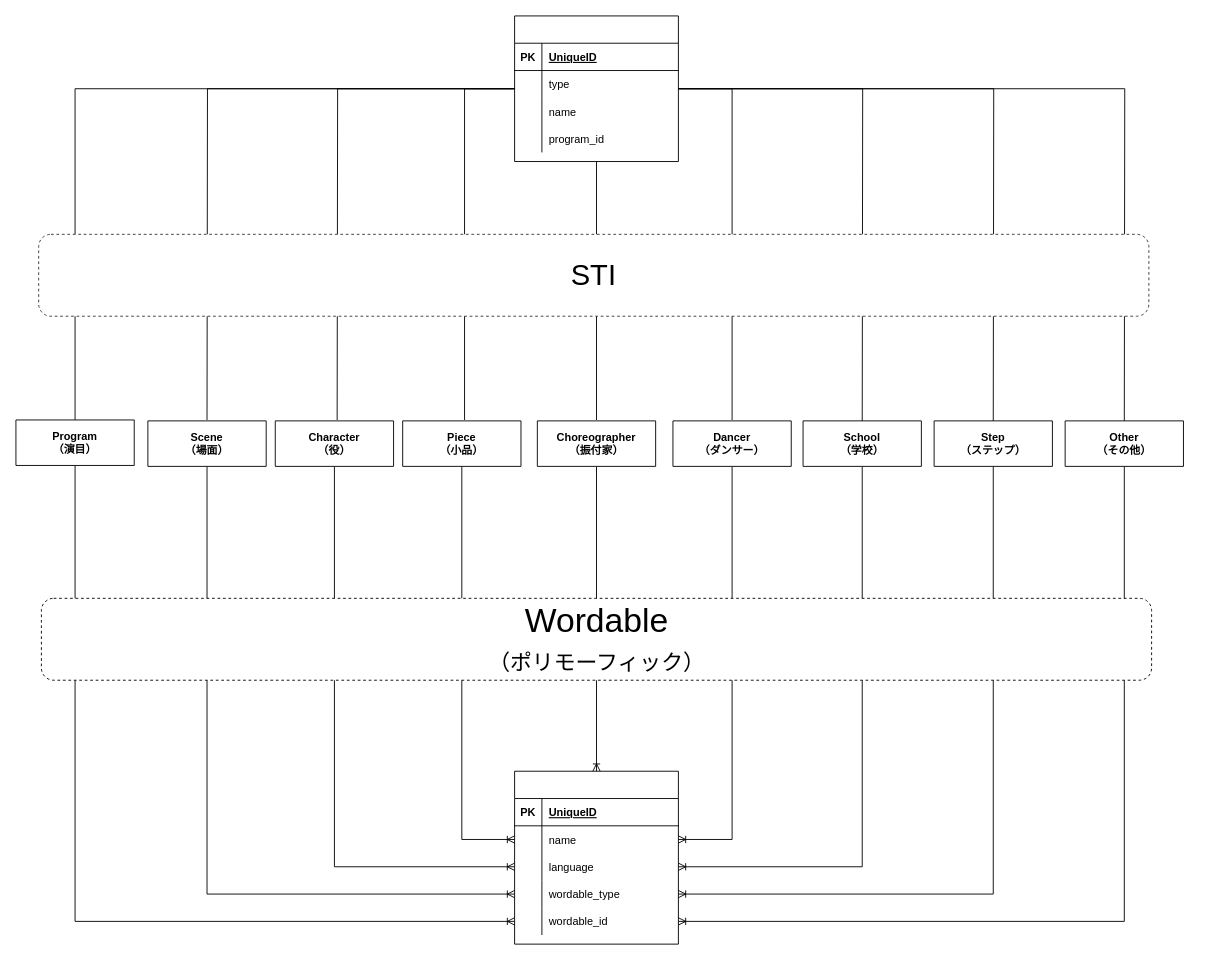
The diagram is 1222 pixels wide and 960 high, and some of its shapes have lost their labels. The shapes that lost their labels are listed below. From the top down, each one's box as (x1, y1, x2, y2) in pixels, then its label:
(514, 15, 678, 162): Search Word （検索したいワード）
(514, 770, 678, 944): Translated Word （翻訳後のワード）
